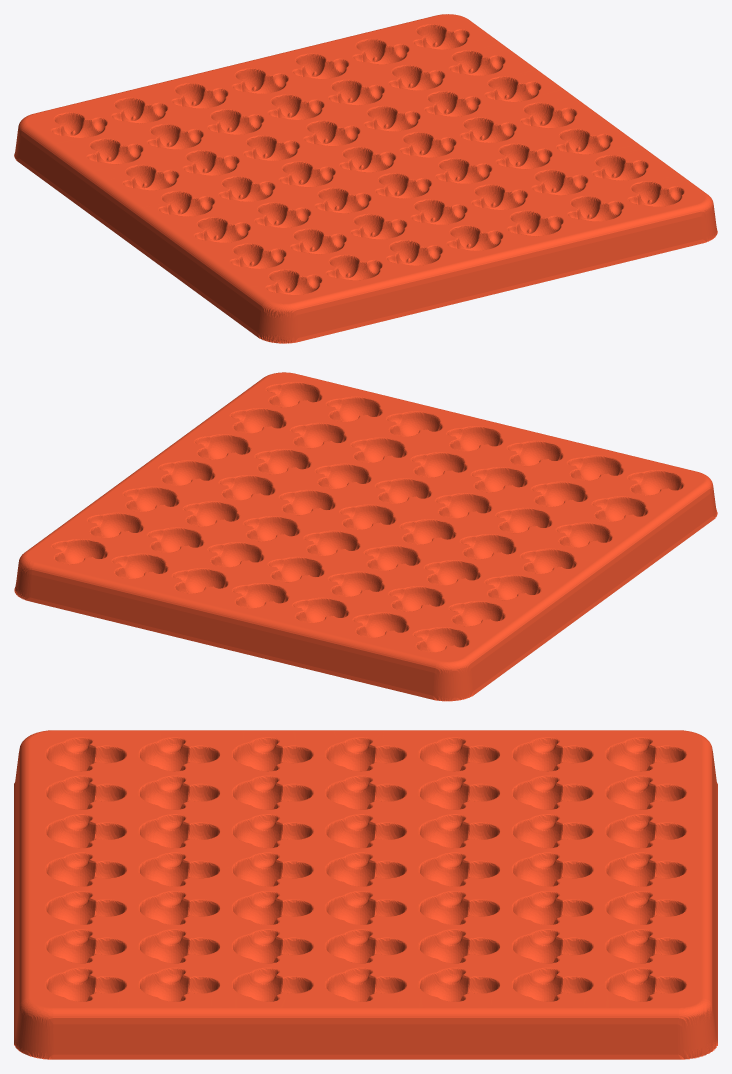
Rendered from mold.glb.
The picture shows the model from 3 angles, top to bottom: view 1: azimuth 30°, elevation 25°; view 2: azimuth 150°, elevation 25°; view 3: azimuth 270°, elevation 25°; orthographic projection. The views are drawn at different scales.
Visible parts, largest first — view 1: geometry_0; view 2: geometry_0; view 3: geometry_0.
Part boxes in pixels (x1=…): geometry_0: x1=14, y1=14, x2=717, y2=343; geometry_0: x1=14, y1=372, x2=717, y2=701; geometry_0: x1=14, y1=730, x2=717, y2=1059.
Bounding box in the file's own units: 0.1543 × 0.0112 × 0.1581.
